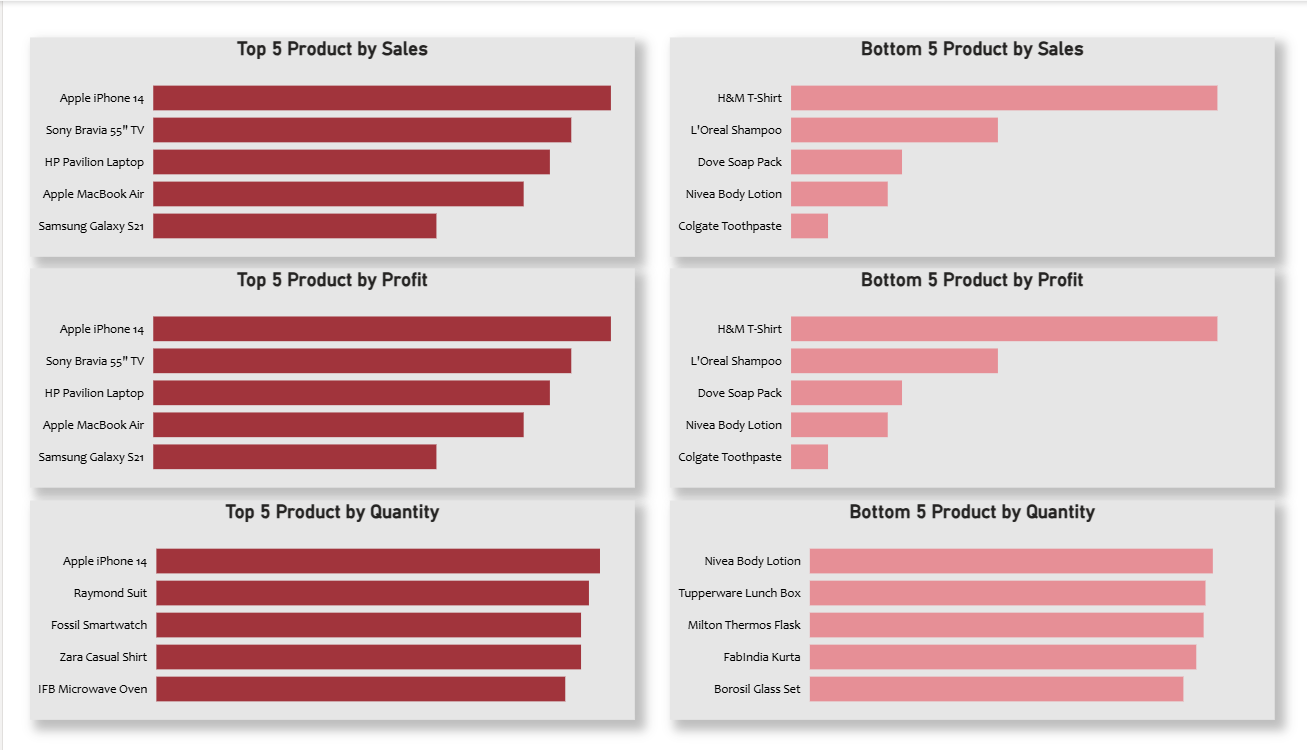

What the dashboard file says about the page in this screenshot:
{"tool":"powerbi","page":{"name":"Top/Bottom 5 Analysis","canvas":[1280,720],"ordinal":1},"visuals":[{"type":"barChart","title":"Top 5 Product by Sales","fields":{"Y":["Sum(Fact Table.Net Sales )"],"Category":["Dim Product.Product Name"]},"box":[26.5,34.3,580.2,210.5],"z":0},{"type":"barChart","title":"Bottom 5 Product by Sales","fields":{"Y":["Sum(Fact Table.Net Sales )"],"Category":["Dim Product.Product Name"]},"box":[639.4,34.3,580.2,210.5],"z":1000},{"type":"barChart","title":"Top 5 Product by Profit","fields":{"Category":["Dim Product.Product Name"],"Y":["Sum(Fact Table.Profit)"]},"box":[26.5,255.8,580.2,210.5],"z":2000},{"type":"barChart","title":"Bottom 5 Product by Profit","fields":{"Category":["Dim Product.Product Name"],"Y":["Sum(Fact Table.Profit)"]},"box":[639.4,255.8,580.2,210.5],"z":3000},{"type":"barChart","title":"Top 5 Product by Quantity","fields":{"Category":["Dim Product.Product Name"],"Y":["Sum(Fact Table.Units Sold)"]},"box":[26.5,478.8,580.2,210.5],"z":4000},{"type":"barChart","title":"Bottom 5 Product by Quantity","fields":{"Category":["Dim Product.Product Name"],"Y":["Sum(Fact Table.Units Sold)"]},"box":[639.4,478.8,580.2,210.5],"z":5000}]}

Visuals, with their boxes in screenshot pixels (x1, y1, x2, y2), scaled from the page's 1280x720 canvas onto the 1307x750 screenshot:
"Top 5 Product by Sales" barChart: (27, 36, 619, 255)
"Bottom 5 Product by Sales" barChart: (653, 36, 1245, 255)
"Top 5 Product by Profit" barChart: (27, 266, 619, 486)
"Bottom 5 Product by Profit" barChart: (653, 266, 1245, 486)
"Top 5 Product by Quantity" barChart: (27, 499, 619, 718)
"Bottom 5 Product by Quantity" barChart: (653, 499, 1245, 718)
